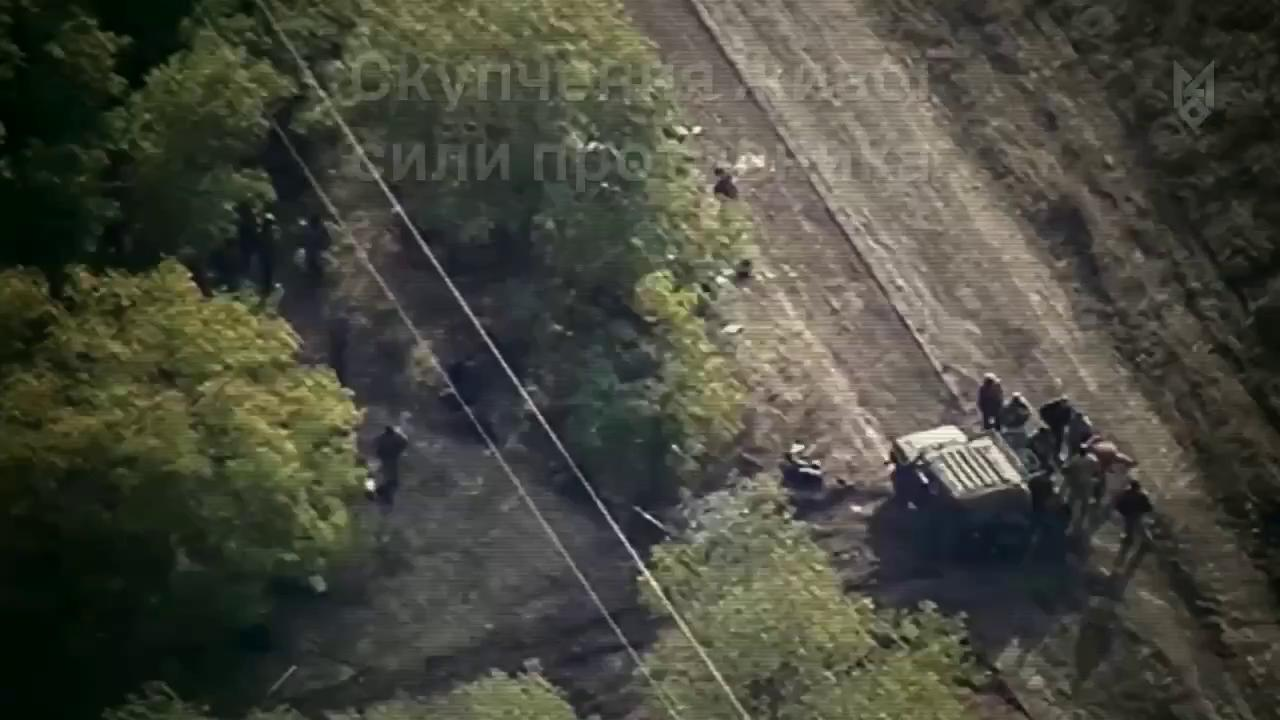tank: (875, 401, 1099, 559)
